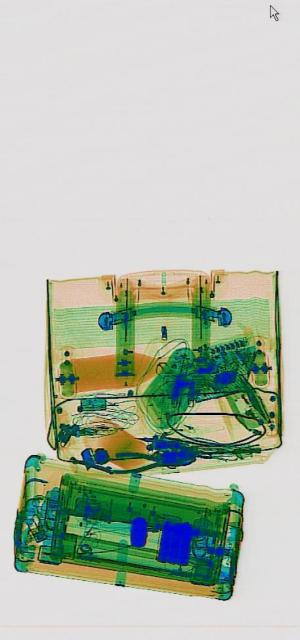Pliers: (108, 446, 194, 474)
Wrench: (68, 455, 111, 473)
